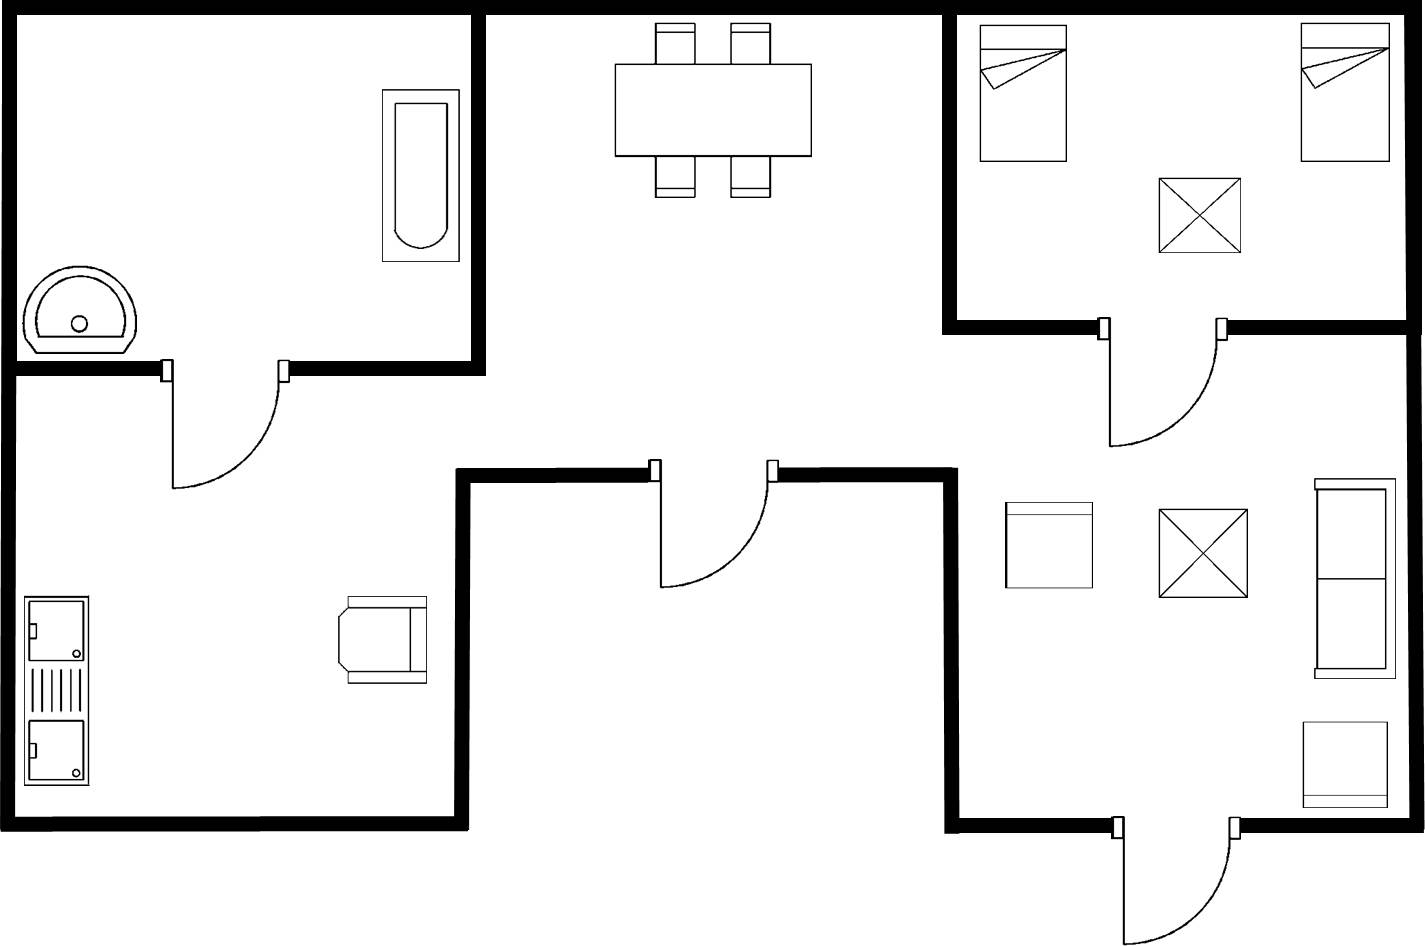armchair: (332, 589, 436, 692)
bed: (1293, 18, 1394, 166), (973, 20, 1074, 168)
coffee_table: (1155, 504, 1254, 605), (1151, 170, 1251, 261)
dining_table: (606, 18, 820, 206)
large_sofa: (1305, 472, 1399, 684)
small_sink: (20, 261, 145, 359)
small_sofa: (998, 497, 1101, 599), (1297, 717, 1392, 814)
tub: (374, 81, 466, 268)
twin_sink: (18, 591, 93, 792)
